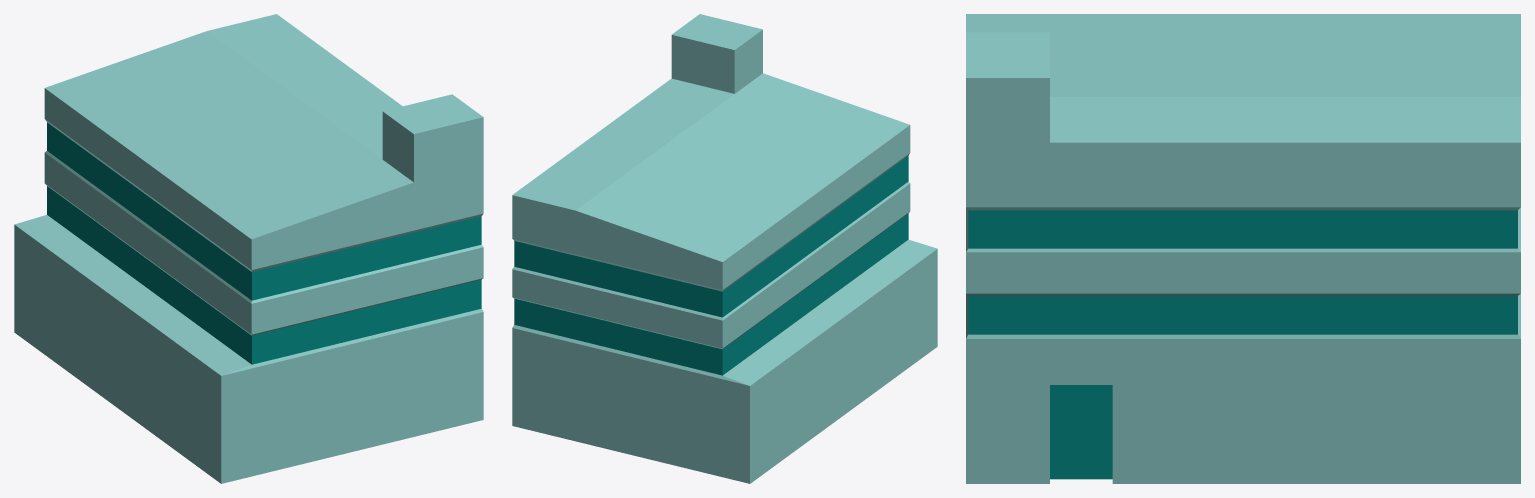
The model's file is bat_4.FBX.
3 views of the same model, side by side, from view 1: azimuth 30°, elevation 25°; view 2: azimuth 150°, elevation 25°; view 3: azimuth 270°, elevation 25° (orthographic). The views are drawn at different scales.
Visible parts, largest first — view 1: Box001; view 2: Box001; view 3: Box001.
Boxes of the visible parts, x1,y1,x2,y2 form: Box001: [14, 14, 483, 483]; Box001: [512, 14, 937, 483]; Box001: [966, 14, 1520, 483].
Size of the model in its own units: 68.17 by 75.18 by 93.12.
